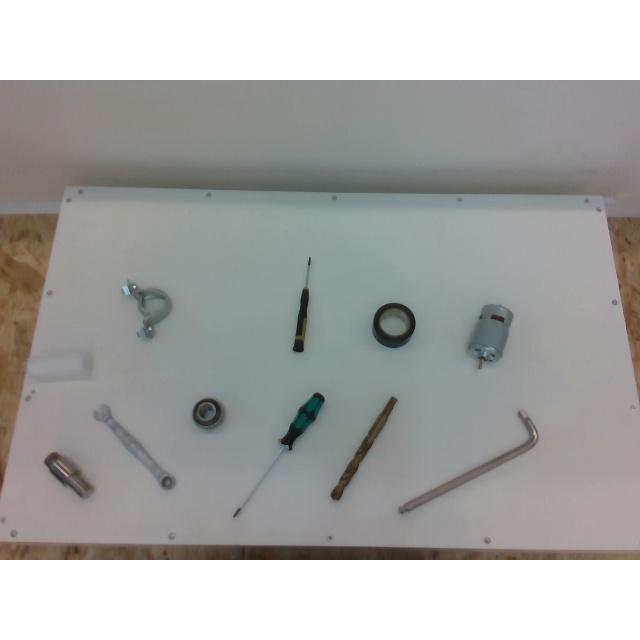AllenKey: (398, 409, 538, 513)
Axis2: (46, 453, 94, 497)
Bearing2: (192, 398, 224, 429)
Drill: (330, 396, 398, 499)
Housing: (121, 280, 171, 340)
Motor2: (468, 304, 512, 368)
Screwdriver: (232, 392, 324, 518)
Spacer: (28, 350, 92, 382)
Wrench: (93, 404, 175, 488)
